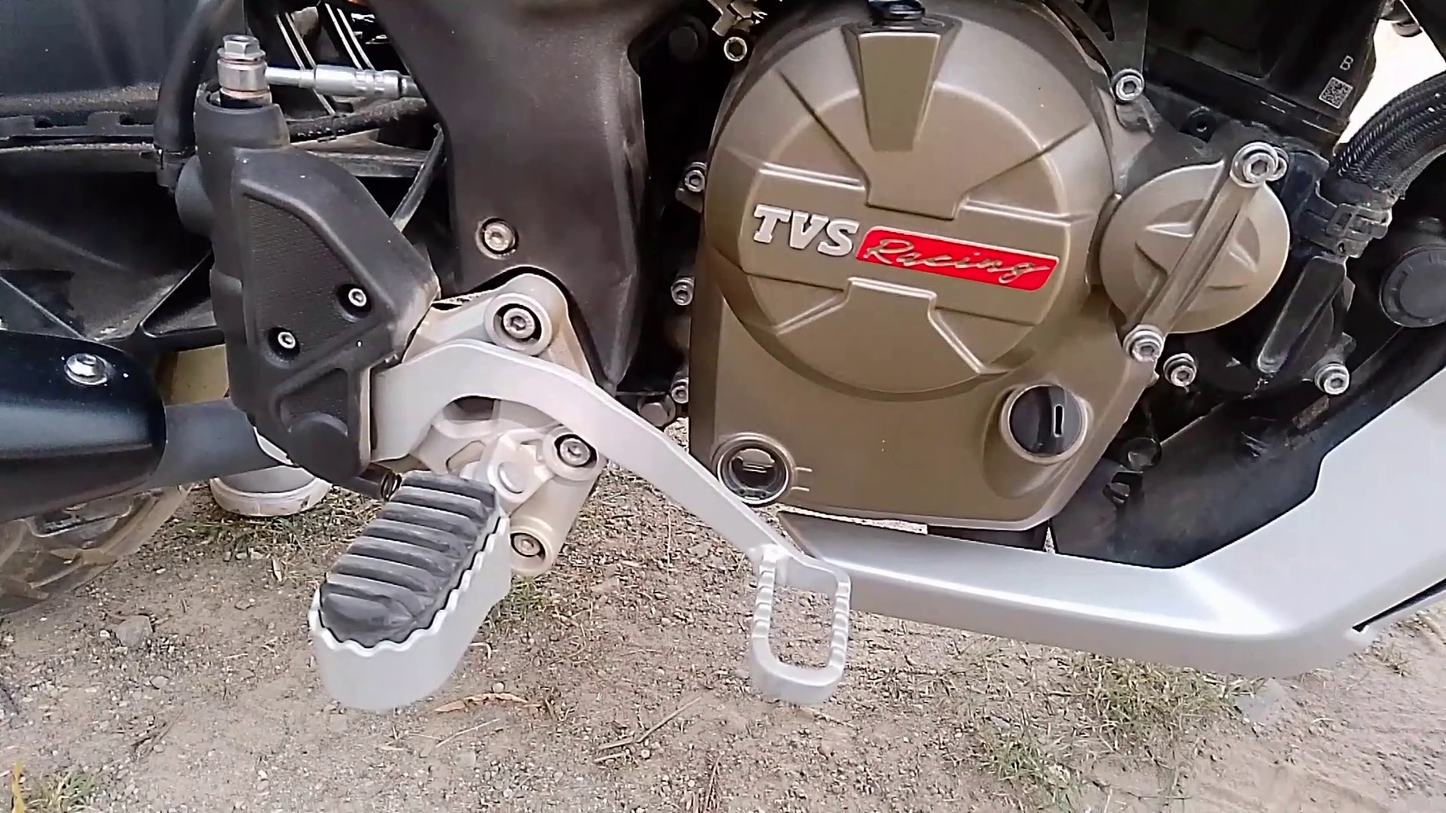engine: (670, 0, 1309, 565)
oil_cap: (992, 363, 1103, 476)
oil_marker: (699, 414, 834, 525)
